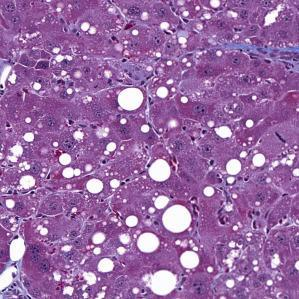fibrosis: (213, 38, 296, 71)
